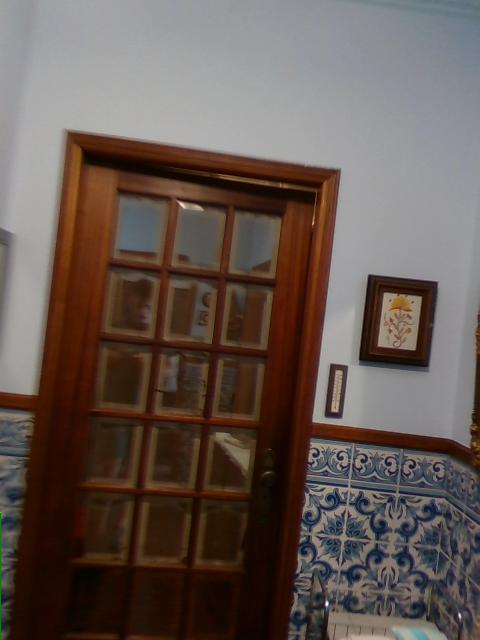door: (9, 131, 338, 635)
